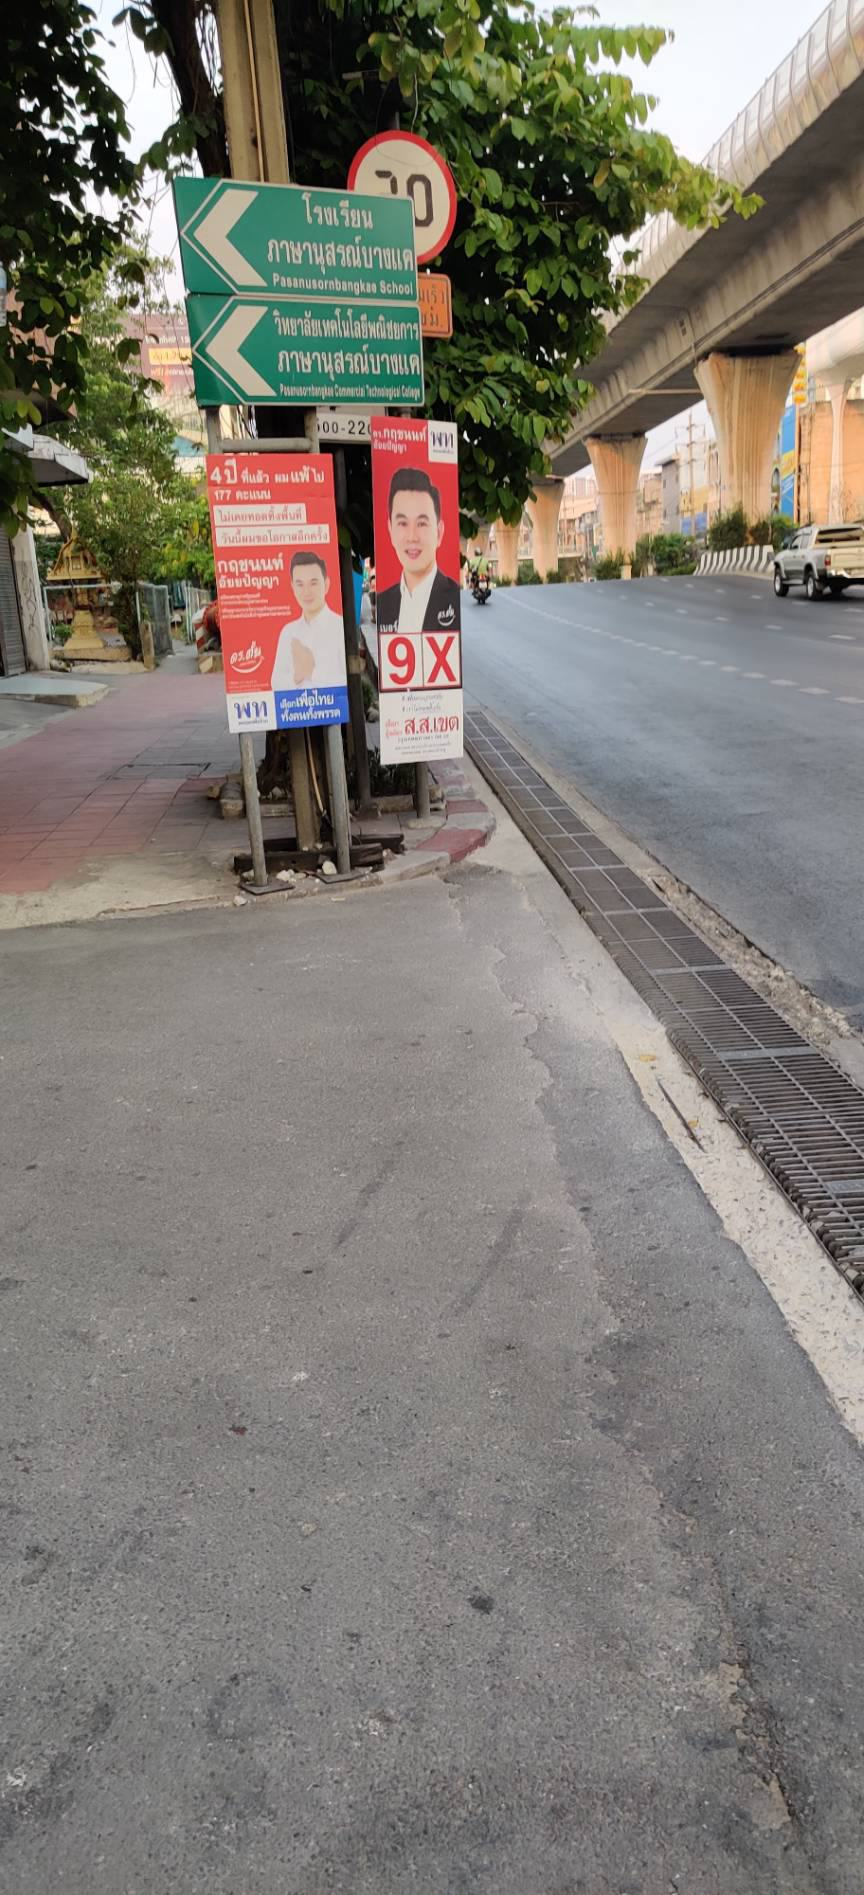Banner: (204, 442, 352, 738), (376, 418, 471, 757)
